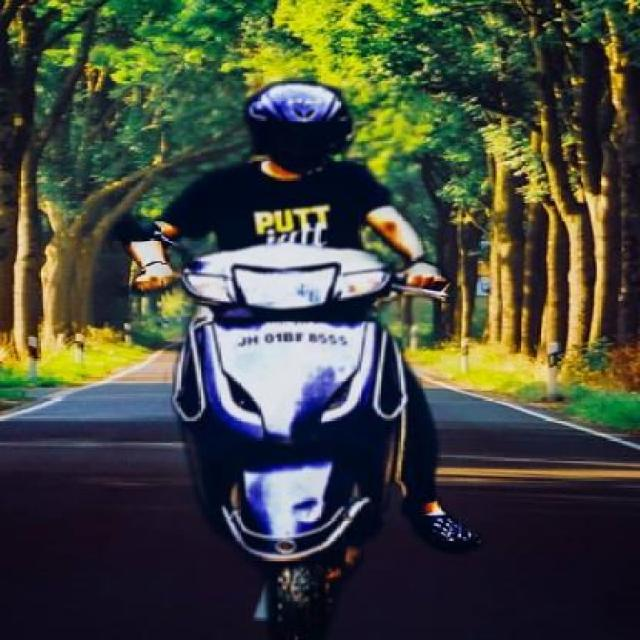helmet: (228, 73, 364, 198)
motorcycle: (105, 70, 529, 636)
